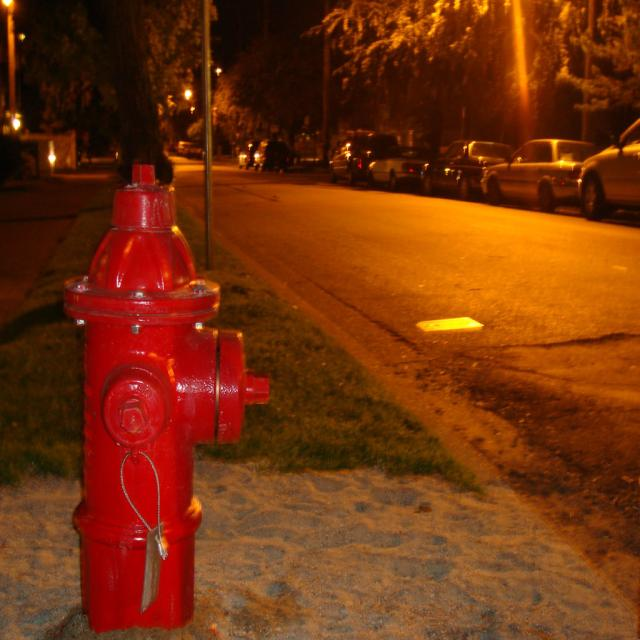fire_hydrant: (60, 160, 272, 628)
